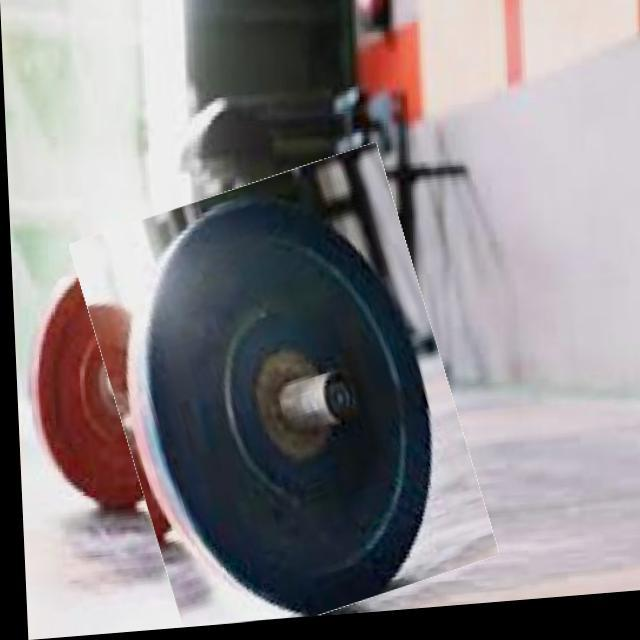barbell: (90, 160, 472, 636)
